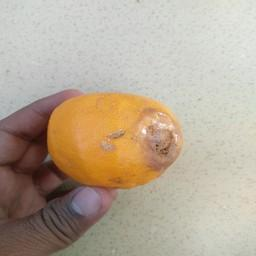Bad_orange: (45, 90, 186, 191)
